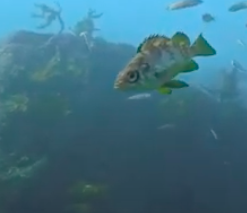mebaru: (110, 24, 217, 99)
